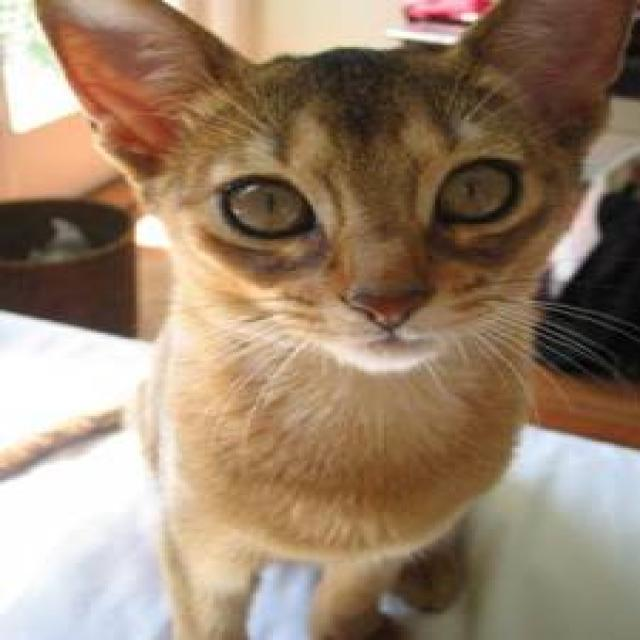Abyssinian: (29, 0, 634, 370)
